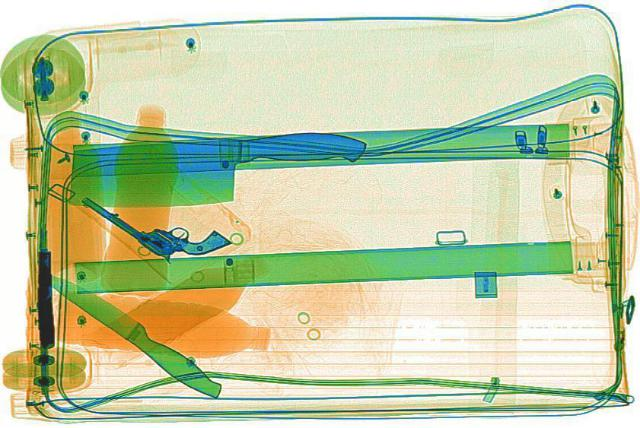Gun: (74, 170, 232, 270)
Knife: (32, 266, 232, 399), (66, 131, 368, 206)
